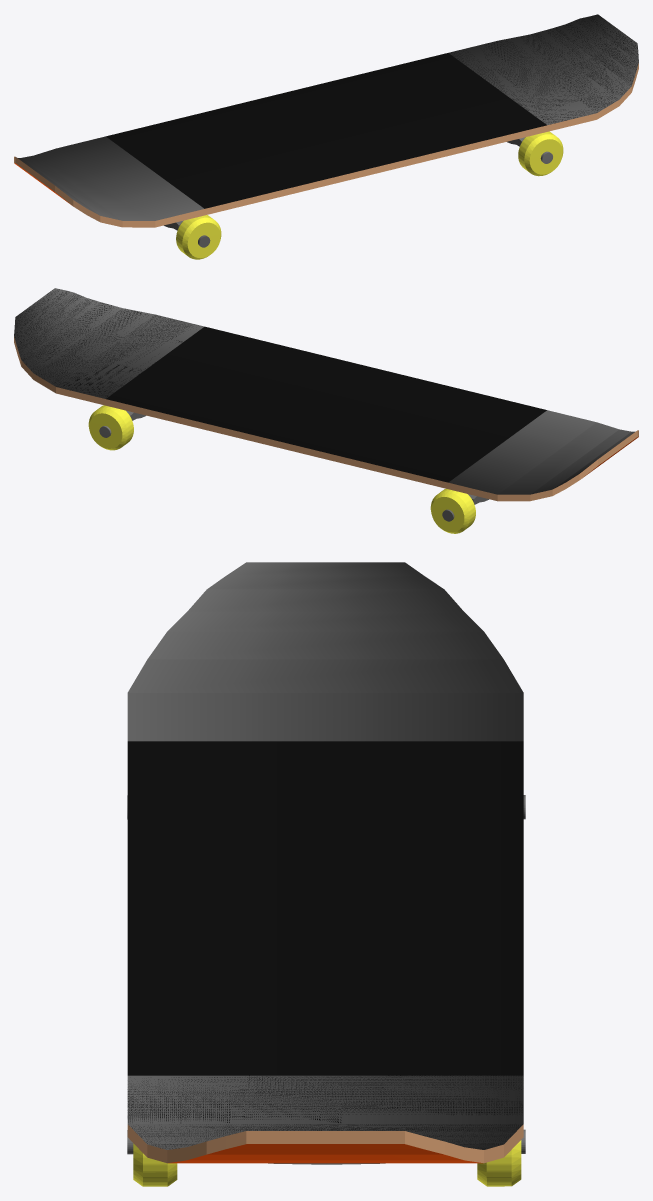
Rendered from skateboard_deck.glb.
3 views of the same model, one above another, from view 1: azimuth 30°, elevation 25°; view 2: azimuth 150°, elevation 25°; view 3: azimuth 270°, elevation 25° (orthographic). The views are drawn at different scales.
Parts seen in each view (by area): view 1: Deck, Wheels1, Wheels2; view 2: Deck, Wheels2, Wheels1; view 3: Deck, Wheels2.
Boxes of the visible parts, bbox=[...] form: Deck: bbox=[14, 14, 638, 227]; Wheels1: bbox=[176, 215, 221, 259]; Wheels2: bbox=[518, 131, 563, 176]; Deck: bbox=[14, 288, 638, 501]; Wheels2: bbox=[88, 405, 133, 450]; Wheels1: bbox=[430, 488, 475, 533]; Deck: bbox=[127, 562, 523, 1163]; Wheels2: bbox=[133, 1140, 521, 1186].
Size of the model in its own units: 1.98 by 0.2727 by 0.5856.
Materials: 1 (1 with a texture image).
